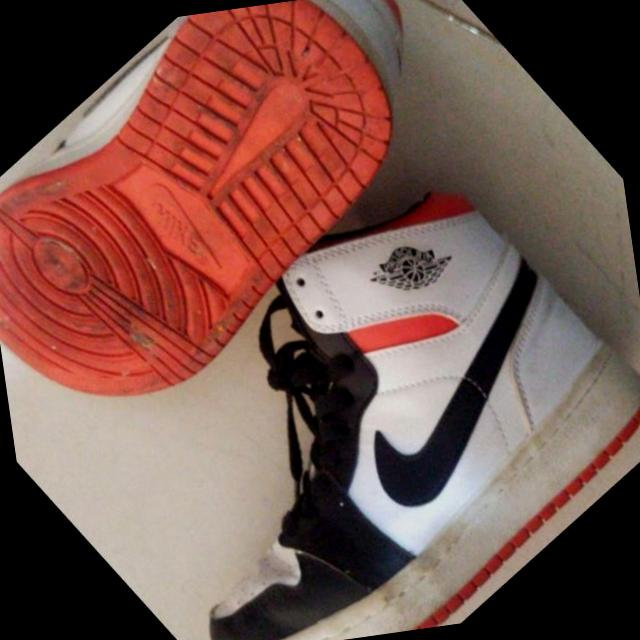nike_fake_jordan: (3, 103, 640, 640)
